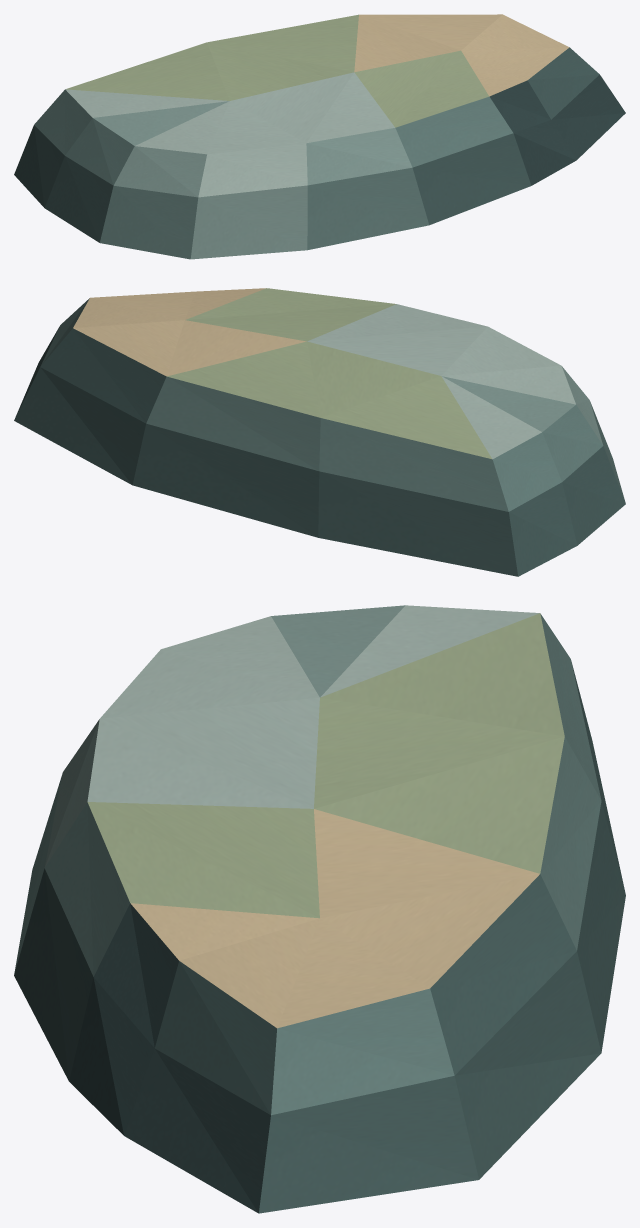
File: 03_left_bank_main_platform.obj
The picture shows the model from 3 angles, top to bottom: view 1: azimuth 30°, elevation 25°; view 2: azimuth 150°, elevation 25°; view 3: azimuth 270°, elevation 25°; orthographic projection. The views are drawn at different scales.
Parts seen in each view (by area): view 1: Left_Bank_Main_Platform; view 2: Left_Bank_Main_Platform; view 3: Left_Bank_Main_Platform.
Part boxes in pixels (x1,y1,x2,y2): Left_Bank_Main_Platform: (14,14,625,259); Left_Bank_Main_Platform: (14,288,625,576); Left_Bank_Main_Platform: (14,605,625,1213).
Size of the model in its own units: 3.74 by 0.62 by 2.
Materials: 1 (1 with a texture image).
